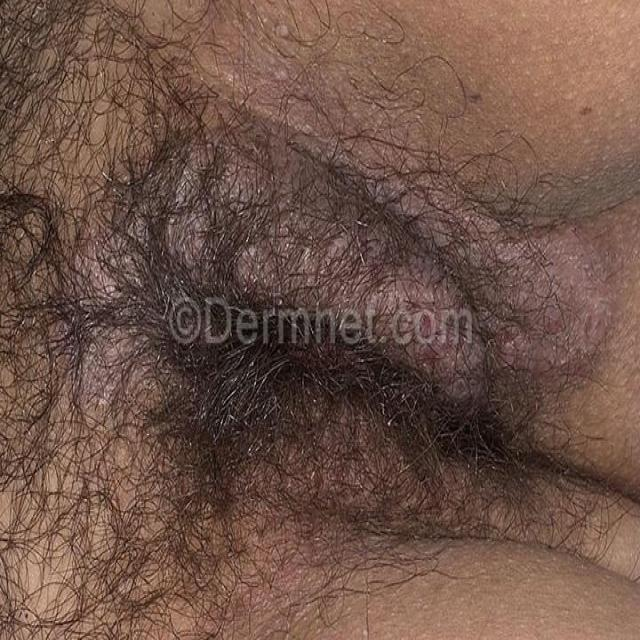Eczema: (82, 153, 592, 401)
